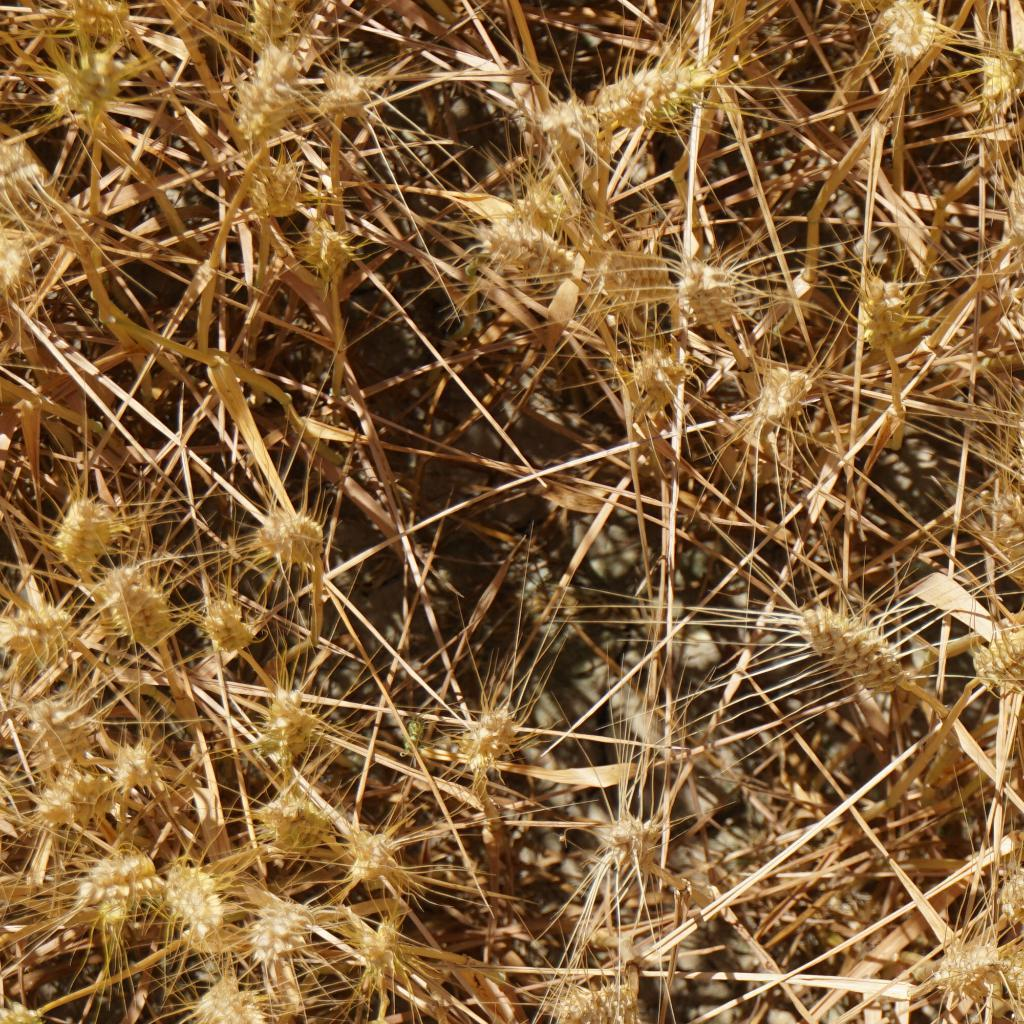0-0: (793, 599, 900, 690), (471, 212, 569, 291), (97, 561, 186, 644), (604, 57, 701, 131), (236, 46, 306, 136), (680, 256, 745, 338), (523, 173, 595, 247), (55, 46, 131, 114), (167, 865, 231, 944), (536, 83, 608, 152), (856, 264, 914, 347), (266, 677, 325, 758), (245, 893, 309, 966), (258, 500, 332, 563), (543, 974, 635, 1024), (36, 764, 112, 824), (962, 36, 1016, 120), (983, 488, 1024, 598), (242, 148, 305, 219), (969, 626, 1024, 707), (299, 215, 360, 288), (301, 61, 366, 129), (258, 798, 331, 858), (456, 704, 522, 769), (0, 595, 71, 654), (78, 847, 160, 898), (26, 692, 92, 754), (594, 244, 672, 296), (199, 595, 262, 659), (939, 939, 1001, 1001), (600, 807, 663, 868), (624, 348, 688, 407), (53, 504, 111, 569), (876, 2, 929, 69), (65, 0, 141, 44), (342, 834, 402, 889), (199, 976, 266, 1024), (0, 134, 41, 211), (756, 360, 808, 415), (351, 919, 400, 975), (117, 741, 168, 788), (0, 226, 35, 288), (253, 0, 306, 37), (994, 858, 1024, 920), (1004, 397, 1024, 487), (102, 893, 137, 932), (1007, 147, 1024, 217), (1005, 957, 1024, 1013), (0, 1001, 45, 1024), (1013, 208, 1024, 253)
